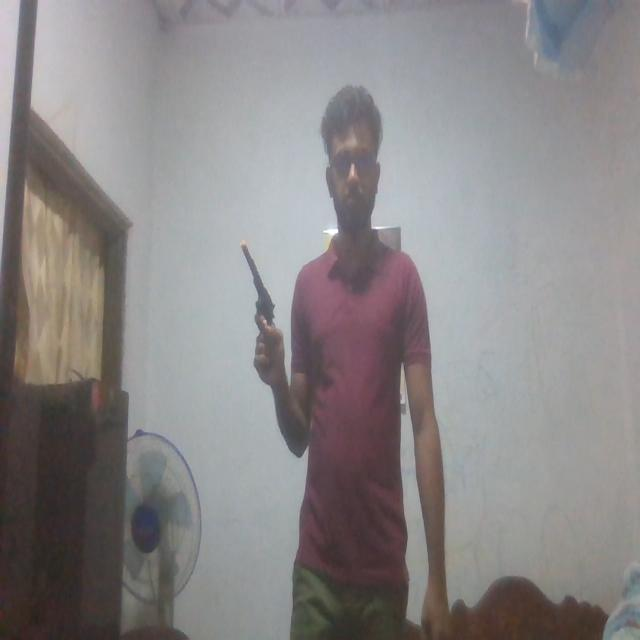Gun_Holder: (242, 243, 288, 376)
Person: (254, 91, 452, 640)
